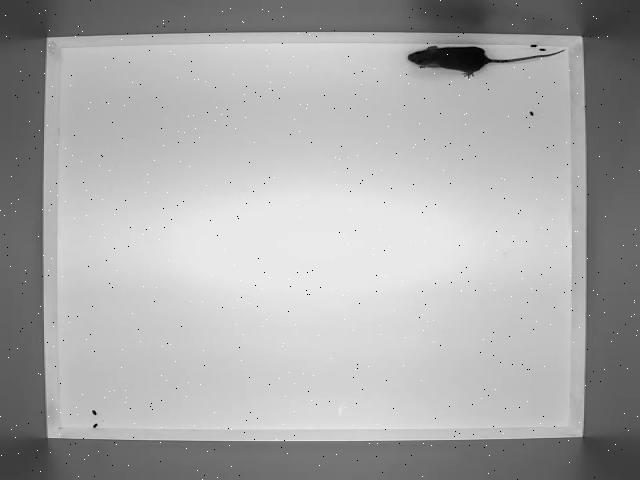Tikus: (406, 41, 568, 78)
